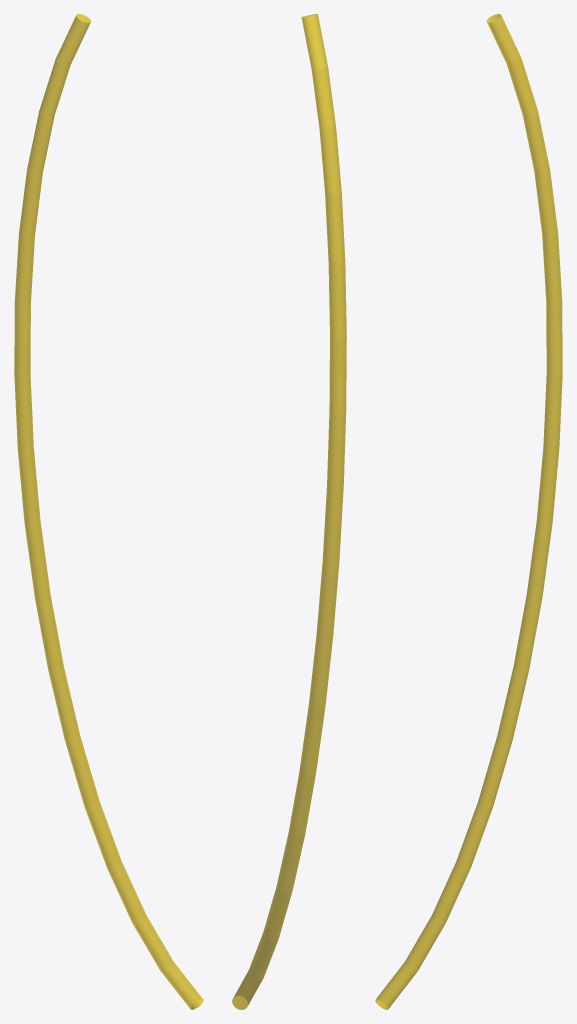
Rendered from Event_75125125_track_22.fbx.
3 renders of one model, left to right at view 1: azimuth 90°, elevation 25°; view 2: azimuth 210°, elevation 25°; view 3: azimuth 270°, elevation 25°, orthographic. The views are drawn at different scales.
Visible parts, largest first — view 1: Model; view 2: Model; view 3: Model.
Part boxes in pixels (x1,y1,x2,y2): Model: (14, 14, 203, 1009); Model: (232, 14, 346, 1009); Model: (375, 14, 562, 1009).
Size of the model in its own units: 0.0698 by 2.71 by 0.4665.
